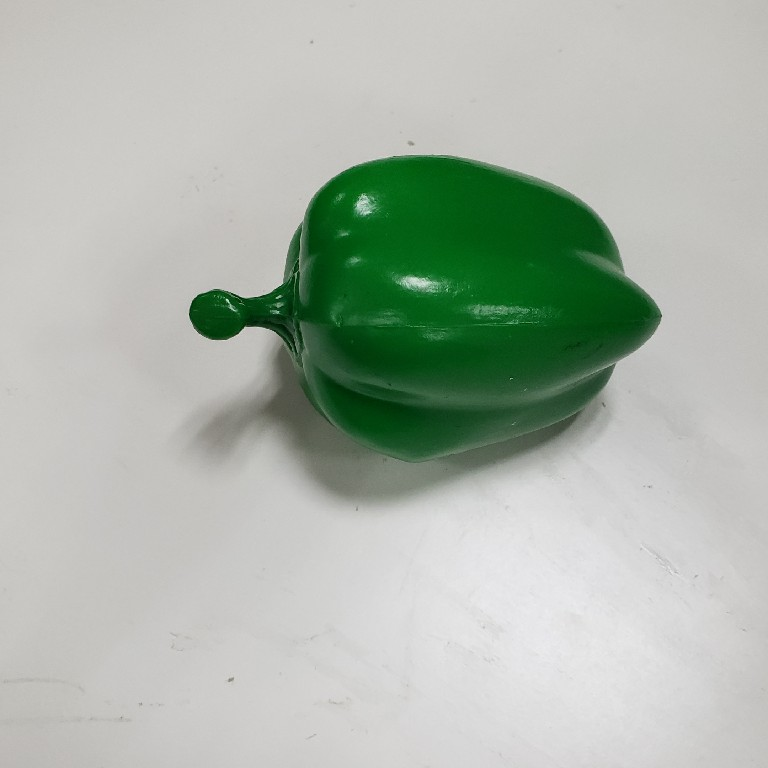fruit_pepper: (183, 148, 668, 467)
